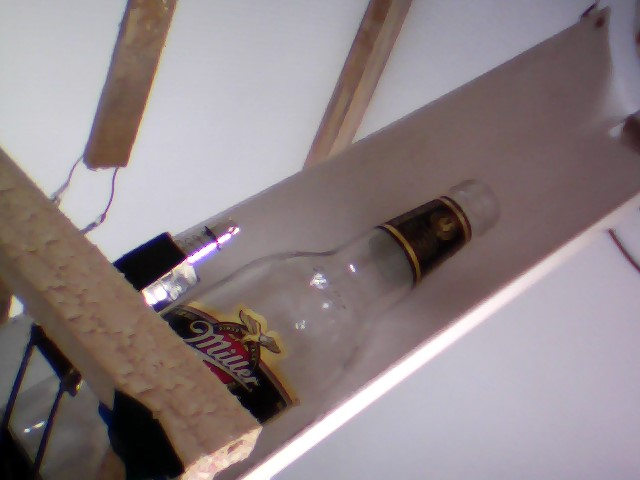vidrio: (178, 167, 504, 434)
